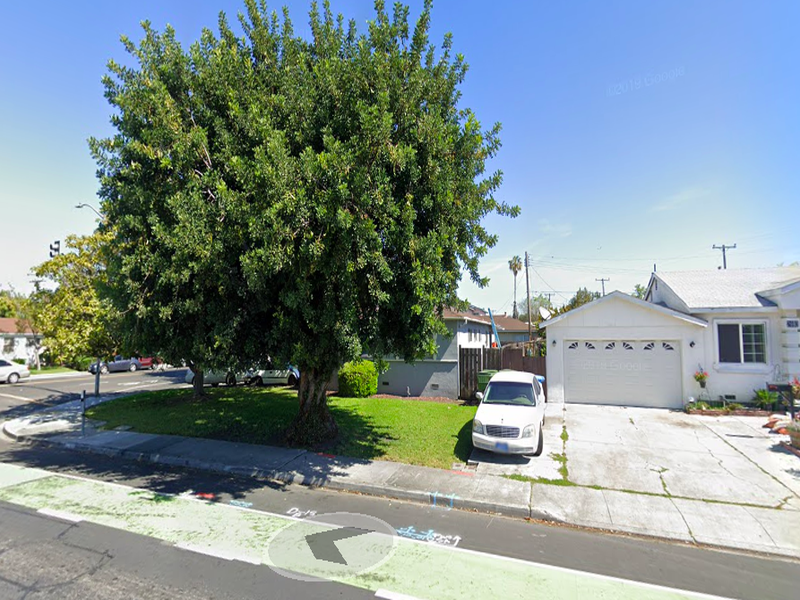tree: (86, 3, 523, 446)
